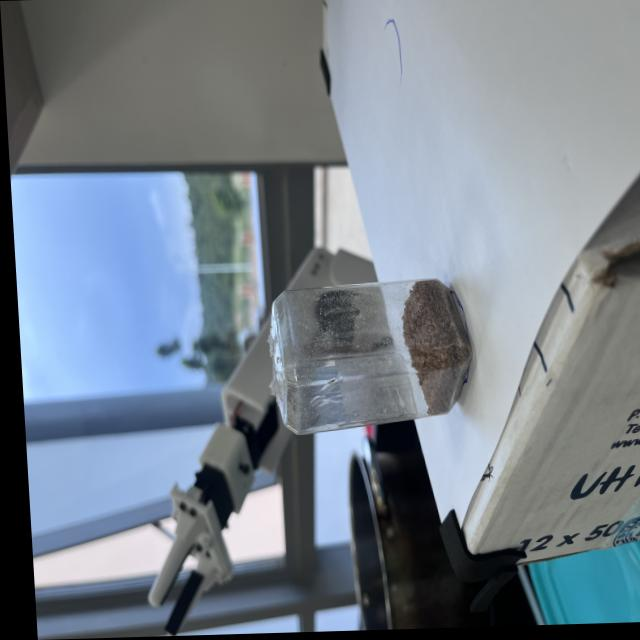maggie_open: (394, 282, 466, 422)
